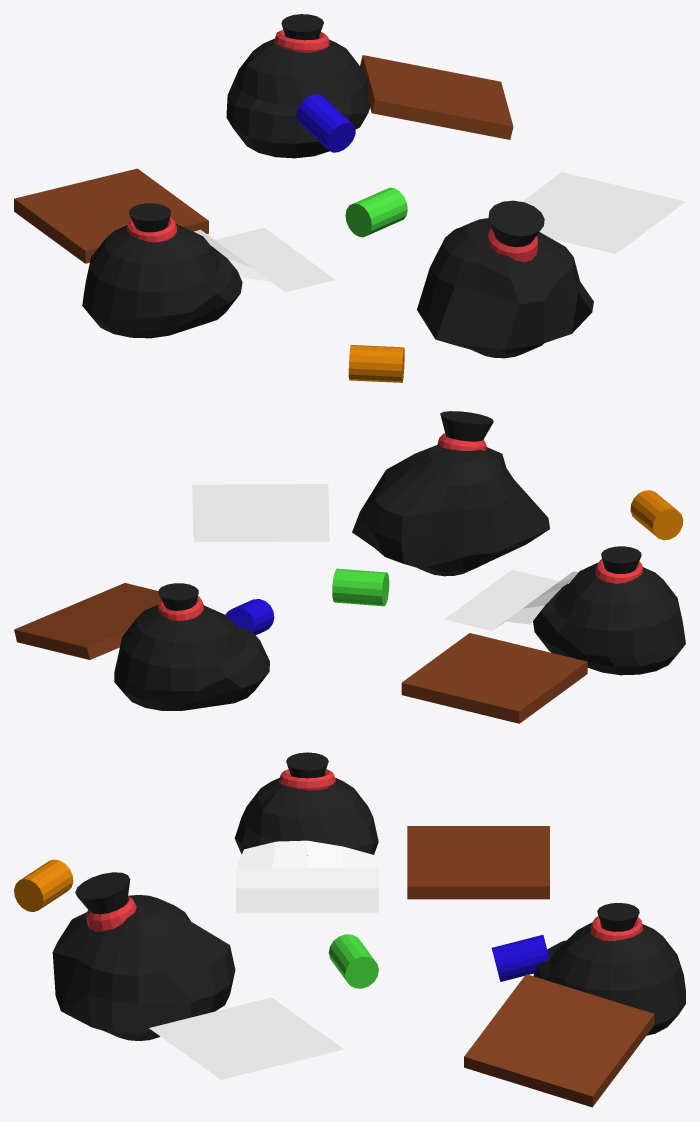
Rendered from Trash.fbx.
The picture shows the model from 3 angles, top to bottom: view 1: azimuth 30°, elevation 25°; view 2: azimuth 150°, elevation 25°; view 3: azimuth 270°, elevation 25°; orthographic projection. The views are drawn at different scales.
Visible parts, largest first — view 1: Cylinder; view 2: Cylinder; view 3: Cylinder.
Boxes of the visible parts, bbox=[...] form: Cylinder: bbox=[14, 14, 685, 382]; Cylinder: bbox=[14, 411, 685, 723]; Cylinder: bbox=[14, 752, 685, 1107].
Size of the model in its own units: 8.95 by 2.38 by 9.42.
